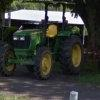Tractor: (11, 16, 95, 82)
